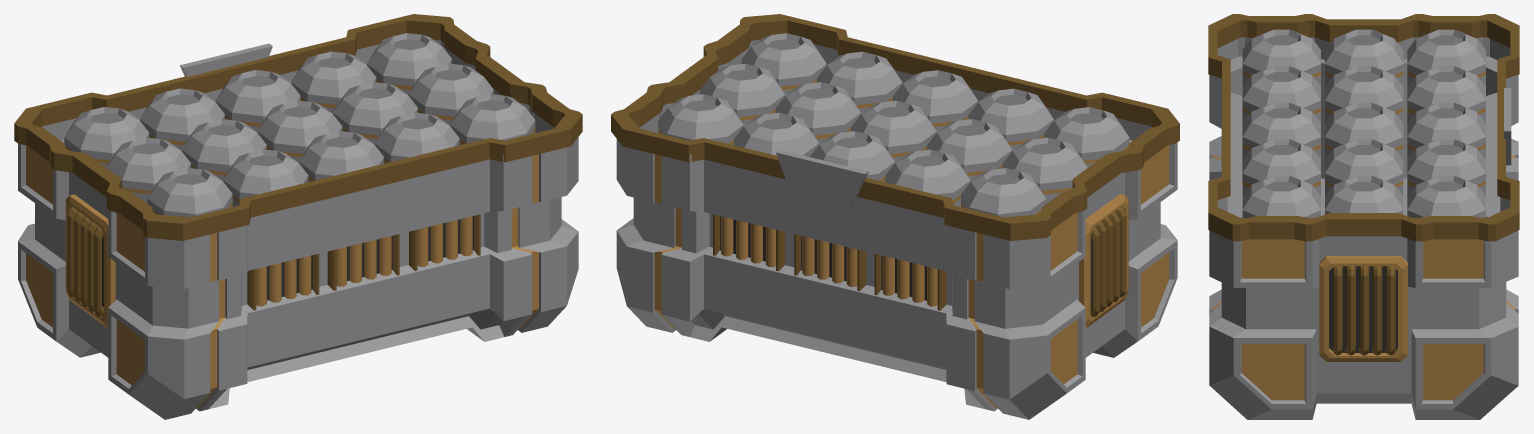
The model's file is quaternius-modular-sci-fi-props-container-full.glb.
The picture shows the model from 3 angles, left to right: view 1: azimuth 30°, elevation 25°; view 2: azimuth 150°, elevation 25°; view 3: azimuth 270°, elevation 25°; orthographic projection.
Parts seen in each view (by area): view 1: Props_ContainerFull; view 2: Props_ContainerFull; view 3: Props_ContainerFull.
Part boxes in pixels (<box>): Props_ContainerFull: <box>14,14,582,419</box>; Props_ContainerFull: <box>611,14,1179,419</box>; Props_ContainerFull: <box>1208,14,1519,419</box>.
Bounding box in the file's own units: 1.2 × 0.5824 × 0.7517.
Materials: 1 (1 with a texture image).
